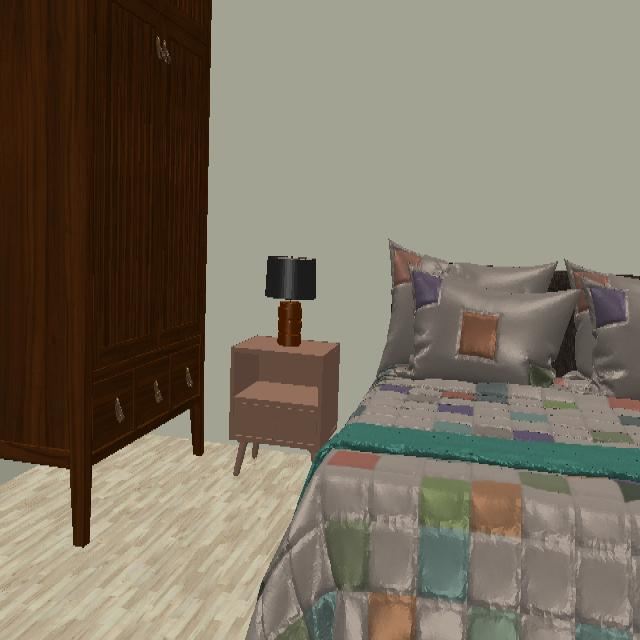bed: (245, 369, 640, 640), (553, 300, 578, 377), (548, 271, 571, 292)
lamp: (265, 256, 317, 348)
nighttable: (228, 336, 340, 475)
pillow: (378, 240, 558, 375), (412, 271, 582, 388), (565, 260, 640, 377), (581, 277, 640, 401)
